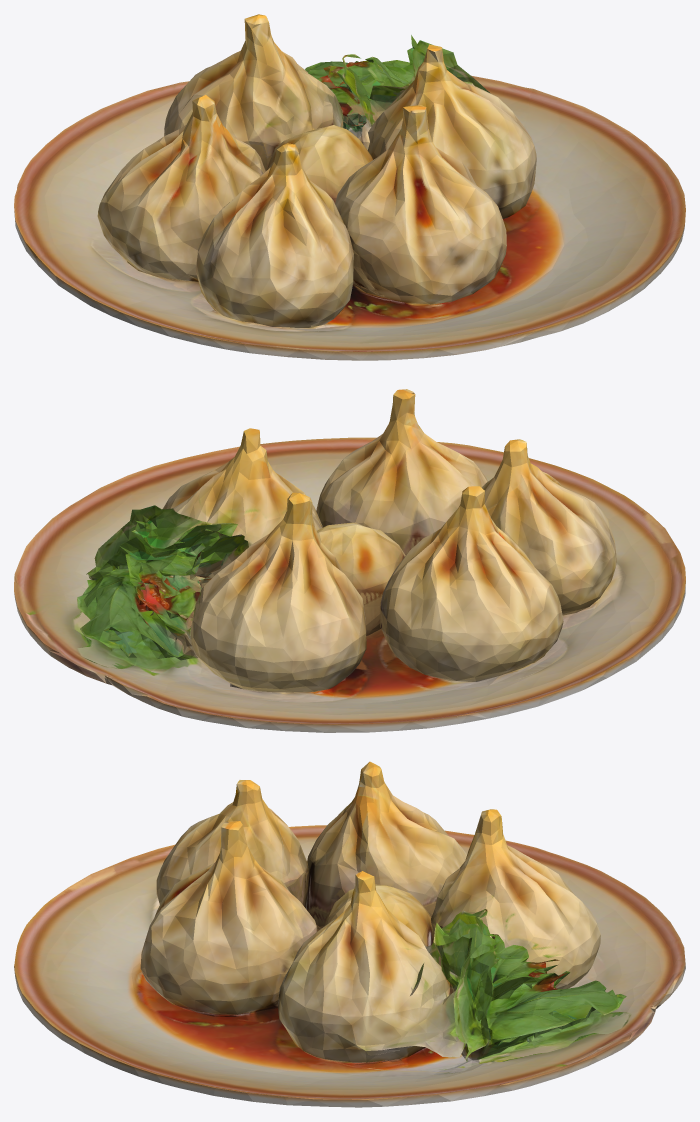
The model's file is momo.glb.
3 views of the same model, one above another, from view 1: azimuth 30°, elevation 25°; view 2: azimuth 150°, elevation 25°; view 3: azimuth 270°, elevation 25° (orthographic). The views are drawn at different scales.
Visible parts, largest first — view 1: momos; view 2: momos; view 3: momos.
Part boxes in pixels (x1,y1,x2,y2): momos: [14, 14, 685, 360]; momos: [14, 389, 685, 732]; momos: [14, 761, 685, 1107].
Size of the model in its own units: 1.71 by 0.5185 by 1.77.
1 material, 1 textured.
